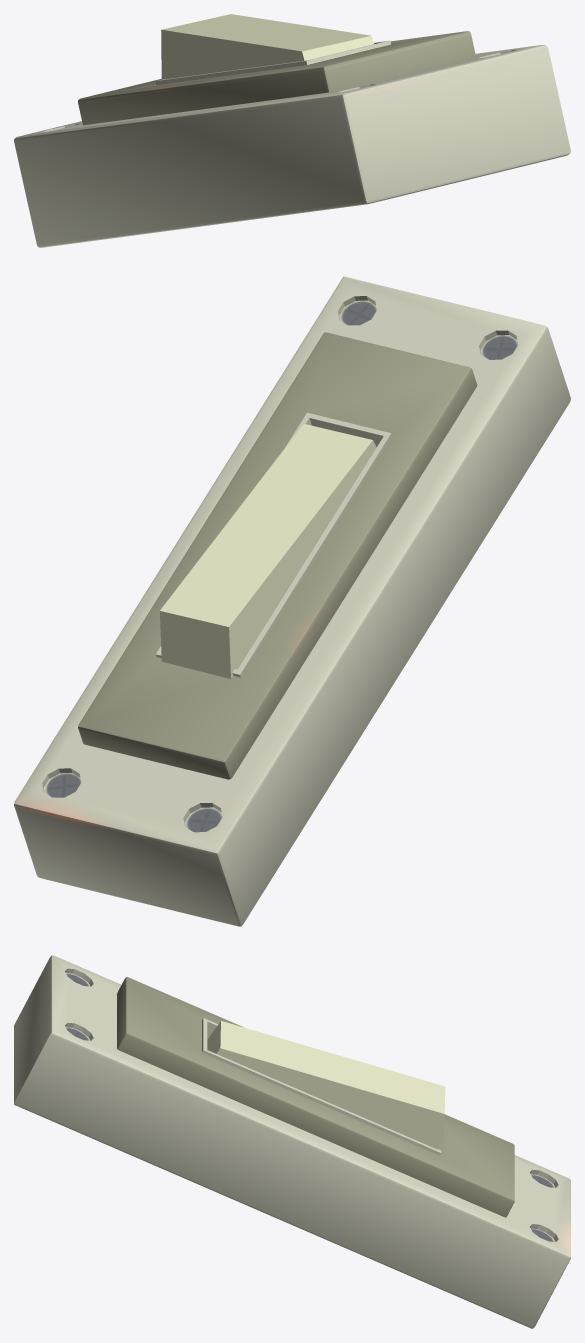
Rendered from SwitchJoined.fbx.
The picture shows the model from 3 angles, top to bottom: view 1: azimuth 30°, elevation 25°; view 2: azimuth 150°, elevation 25°; view 3: azimuth 270°, elevation 25°; orthographic projection. The views are drawn at different scales.
Visible parts, largest first — view 1: SwitchJoined; view 2: SwitchJoined; view 3: SwitchJoined.
Boxes of the visible parts, x1,y1,x2,y2 form: SwitchJoined: (14, 14, 570, 247); SwitchJoined: (14, 276, 570, 926); SwitchJoined: (14, 955, 570, 1328).
Size of the model in its own units: 10 by 17.51 by 29.8.
1 material, 1 textured.
